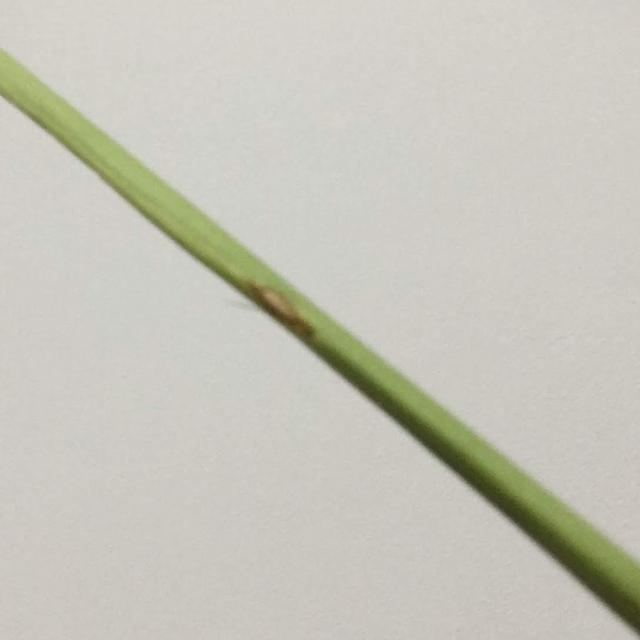Blast: (252, 291, 298, 316)
